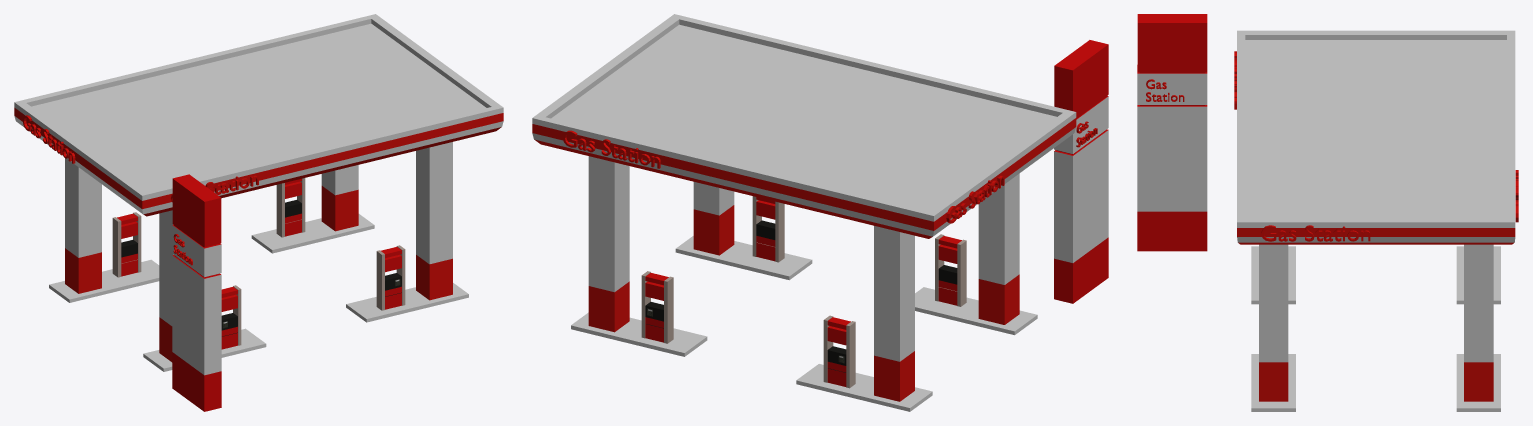
Rendered from FBX_Gas_Station.fbx.
3 views of the same model, side by side, from view 1: azimuth 30°, elevation 25°; view 2: azimuth 150°, elevation 25°; view 3: azimuth 270°, elevation 25° (orthographic). The views are drawn at different scales.
Parts seen in each view (by area): view 1: Gas_Station, Billboard, Text_4, Text_3; view 2: Gas_Station, Billboard, Text_1, Text_4; view 3: Gas_Station, Billboard, Text_2.
Part boxes in pixels (x1,y1,x2,y2): Gas_Station: [14, 14, 503, 371]; Billboard: [172, 174, 221, 411]; Text_4: [23, 115, 75, 163]; Text_3: [171, 175, 258, 202]; Gas_Station: [532, 14, 1076, 411]; Billboard: [1054, 40, 1108, 303]; Text_1: [563, 130, 660, 168]; Text_4: [946, 175, 1004, 223]; Gas_Station: [1237, 30, 1515, 411]; Billboard: [1137, 14, 1207, 251]; Text_2: [1261, 225, 1370, 241].
Bounding box in the file's own units: 15.69 × 8.66 × 13.01.
